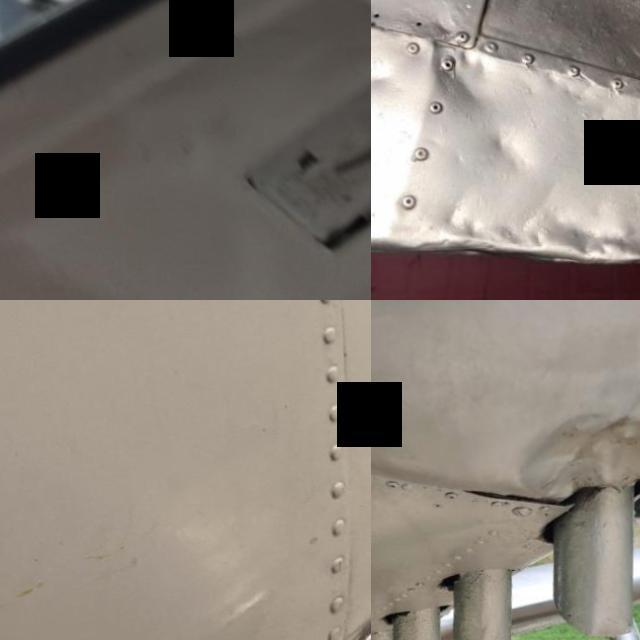Crack: (104, 511, 371, 640), (140, 0, 269, 77)
Dent: (416, 178, 640, 300), (488, 393, 640, 526), (402, 26, 498, 126), (467, 116, 544, 192), (371, 37, 410, 112)
